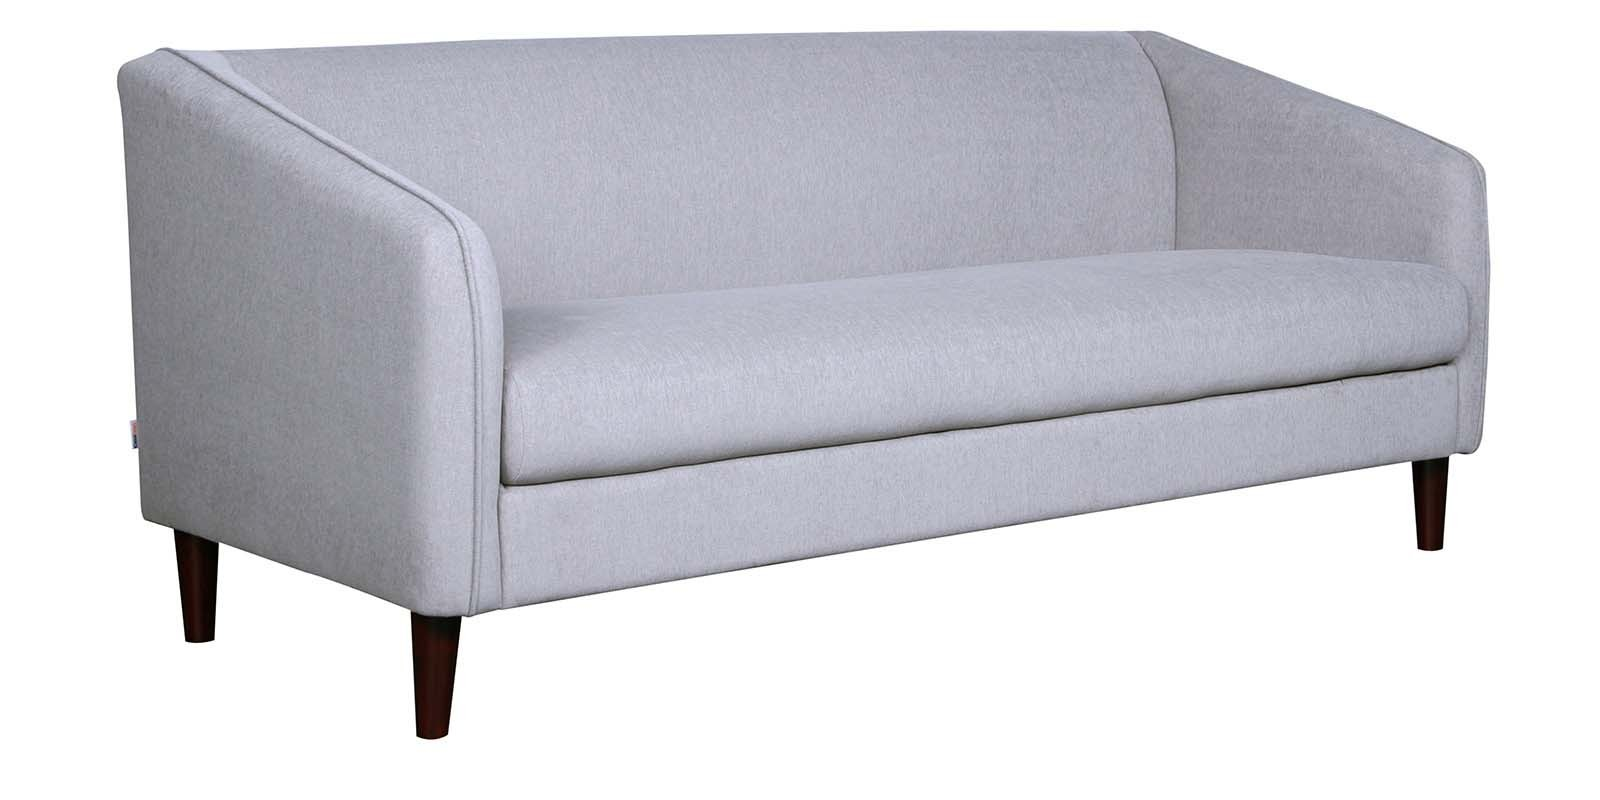Nina Three Seater Sofa in Ash Grey Colour by CasaCraft: (116, 28, 1495, 739)
